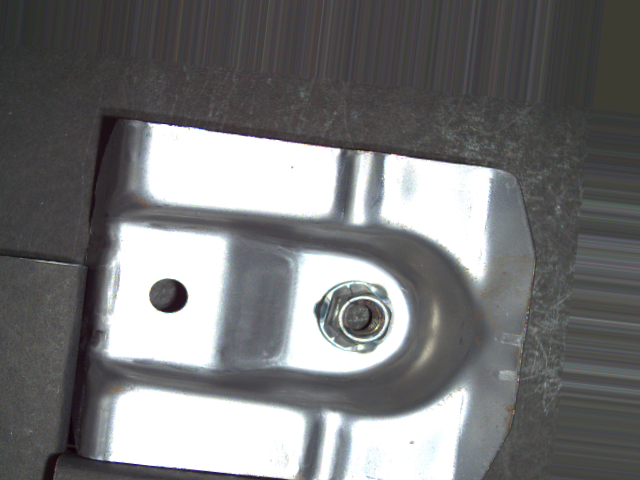good: (313, 278, 396, 356)
